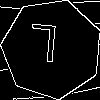L: (26, 24, 59, 72)
